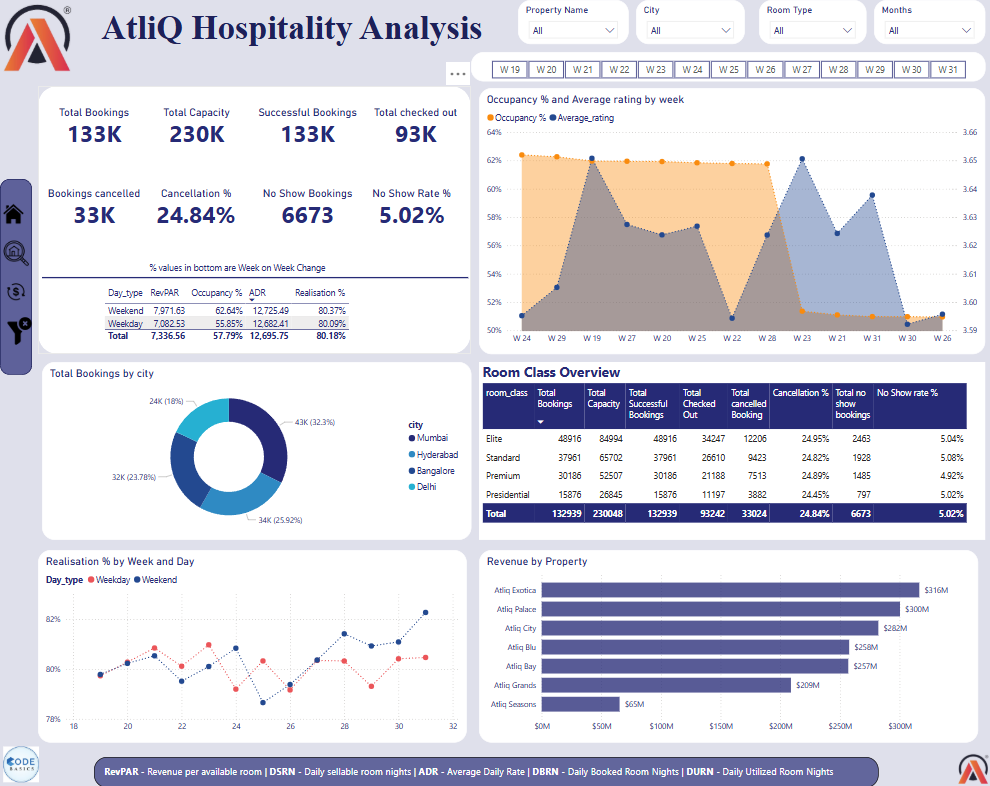

What the dashboard file says about the page in this screenshot:
{"tool":"powerbi","page":{"name":"Property Details","canvas":[1550,1230],"ordinal":1},"visuals":[{"type":"slicer","title":"City","fields":{"Values":["dim_hotels.city"]},"box":[993.8,0,170,68.8],"z":0},{"type":"slicer","title":"Months","fields":{"Values":["dim_date.mmm yy"]},"box":[1366.2,0,173.8,68.8],"z":1000},{"type":"slicer","title":"Room Type","fields":{"Values":["dim_rooms.room_class"]},"box":[1186.2,0,167.5,68.8],"z":2000},{"type":"textbox","box":[152.7,6.2,620.7,75.1],"z":3000},{"type":"slicer","title":"Weeks ","fields":{"Values":["dim_date.week no"]},"box":[736.2,81.2,803.8,46.2],"z":4000},{"type":"textbox","box":[146.2,1182.5,1226.2,47.5],"z":5000},{"type":"slicer","title":"Property Name","fields":{"Values":["dim_hotels.property_name"]},"box":[808.8,0,172.5,68.8],"z":6000},{"type":"image","box":[0,0,119.5,117],"z":7000},{"type":"shape","box":[60,135,676.2,418.8],"z":8000},{"type":"image","box":[0,1160,66.2,70],"z":9000},{"type":"card","title":"Total Bookings","fields":{"Values":["_Measures.Total Bookings"]},"box":[65,165,162.5,66.2],"z":12000},{"type":"card","title":"Bookings cancelled","fields":{"Values":["_Measures.Total cancelled Booking"]},"box":[65,292.5,162.5,66.2],"z":13000},{"type":"card","title":"Total Capacity","fields":{"Values":["_Measures.Total Capacity"]},"box":[223.8,165,167.5,66.2],"z":14000},{"type":"card","title":"Cancellation %","fields":{"Values":["_Measures.Cancellation %"]},"box":[223.8,292.5,166.2,66.2],"z":15000},{"type":"image","box":[1492.5,1171.2,57.5,58.8],"z":16000},{"type":"tableEx","fields":{"Values":["dim_date.Day_type","_Measures.RevPAR","_Measures.Occupancy %","_Measures.ADR","_Measures.Realisation %"]},"box":[157.5,442.5,413.8,101.2],"z":17000},{"type":"card","title":"Successful Bookings","fields":{"Values":["_Measures.Total Successful Bookings"]},"box":[396.9,165,167.1,66.5],"z":18000},{"type":"card","title":"No Show Bookings","fields":{"Values":["_Measures.Total no show bookings"]},"box":[397.5,292.5,167.5,66.2],"z":19000},{"type":"donutChart","fields":{"Category":["dim_hotels.city"],"Y":["_Measures.Total Bookings"]},"box":[65,565,671.2,277.5],"z":20000},{"type":"card","title":"No Show Rate %","fields":{"Values":["_Measures.No Show rate %"]},"box":[560,292.5,167.5,66.2],"z":21000},{"type":"card","title":"Total checked out","fields":{"Values":["_Measures.Total Checked Out"]},"box":[565,165,167.5,66.2],"z":22000},{"type":"areaChart","title":"Occupancy % and Average rating by week ","fields":{"Y":["_Measures.Occupancy %"],"Category":["dim_date.week no"],"Y2":["_Measures.Average_rating"]},"box":[748.8,137.5,791.2,416.2],"z":23000},{"type":"lineChart","title":"Realisation % by Week and Day","fields":{"Series":["dim_date.Day_type"],"Category":["dim_date.Week_no"],"Y":["_Measures.Realisation %"]},"box":[60,858.8,670,301.2],"z":24000},{"type":"shape","box":[0,280,50,306.2],"z":24500,"group":"g1"},{"type":"image","title":"Property Details","box":[0,368.8,50,53.8],"z":25000,"group":"g1"},{"type":"clusteredBarChart","title":"Revenue by Property ","fields":{"Y":["_Measures.Revenue"],"Category":["dim_hotels.property_name"]},"box":[748.8,858.8,780,301.2],"z":25000},{"type":"image","title":"Revenue page","box":[0,422.5,50,68.8],"z":26000,"group":"g1"},{"type":"tableEx","title":"Room Class Overview ","fields":{"Values":["dim_rooms.room_class","_Measures.Total Bookings","_Measures.Total Capacity","_Measures.Total Successful Bookings","_Measures.Total Checked Out","_Measures.Total cancelled Booking","_Measures.Cancellation %","_Measures.Total no show bookings","_Measures.No Show rate %"]},"box":[748.8,565,791.2,277.5],"z":26000},{"type":"image","title":"Clear filter","box":[0,491.2,60,52.5],"z":27000,"group":"g1"},{"type":"shape","box":[66.2,425,666.2,17.5],"z":27000},{"type":"image","title":"Overview","box":[0,293.1,41.9,83.7],"z":27500,"group":"g1"},{"type":"textbox","box":[227.5,405,302.5,28.8],"z":28000},{"type":"group","id":"g1","title":"Home panel","box":[0,280,60,306.2],"z":28001}]}

Visuals, with their boxes in screenshot pixels (x1, y1, x2, y2), scaled from the page's 1550x1230 canvas onto the 990x786 screenshot:
"City" slicer: (x1=635, y1=0, x2=743, y2=44)
"Months" slicer: (x1=873, y1=0, x2=984, y2=44)
"Room Type" slicer: (x1=758, y1=0, x2=865, y2=44)
textbox: (x1=98, y1=4, x2=494, y2=52)
"Weeks " slicer: (x1=470, y1=52, x2=984, y2=81)
textbox: (x1=93, y1=756, x2=877, y2=785)
"Property Name" slicer: (x1=517, y1=0, x2=627, y2=44)
image: (x1=0, y1=0, x2=76, y2=75)
shape: (x1=38, y1=86, x2=470, y2=354)
image: (x1=0, y1=741, x2=42, y2=785)
"Total Bookings" card: (x1=42, y1=105, x2=145, y2=148)
"Bookings cancelled" card: (x1=42, y1=187, x2=145, y2=229)
"Total Capacity" card: (x1=143, y1=105, x2=250, y2=148)
"Cancellation %" card: (x1=143, y1=187, x2=249, y2=229)
image: (x1=953, y1=748, x2=989, y2=785)
tableEx - dim_date.Day_type x _Measures.RevPAR: (x1=101, y1=283, x2=365, y2=347)
"Successful Bookings" card: (x1=254, y1=105, x2=360, y2=148)
"No Show Bookings" card: (x1=254, y1=187, x2=361, y2=229)
donutChart - dim_hotels.city x _Measures.Total Bookings: (x1=42, y1=361, x2=470, y2=538)
"No Show Rate %" card: (x1=358, y1=187, x2=465, y2=229)
"Total checked out" card: (x1=361, y1=105, x2=468, y2=148)
"Occupancy % and Average rating by week " areaChart: (x1=478, y1=88, x2=984, y2=354)
"Realisation % by Week and Day" lineChart: (x1=38, y1=549, x2=466, y2=741)
shape: (x1=0, y1=179, x2=32, y2=375)
"Property Details" image: (x1=0, y1=236, x2=32, y2=270)
"Revenue by Property " clusteredBarChart: (x1=478, y1=549, x2=976, y2=741)
"Revenue page" image: (x1=0, y1=270, x2=32, y2=314)
"Room Class Overview " tableEx: (x1=478, y1=361, x2=984, y2=538)
"Clear filter" image: (x1=0, y1=314, x2=38, y2=347)
shape: (x1=42, y1=272, x2=468, y2=283)
"Overview" image: (x1=0, y1=187, x2=27, y2=241)
textbox: (x1=145, y1=259, x2=339, y2=277)
"Home panel" group: (x1=0, y1=179, x2=38, y2=375)
